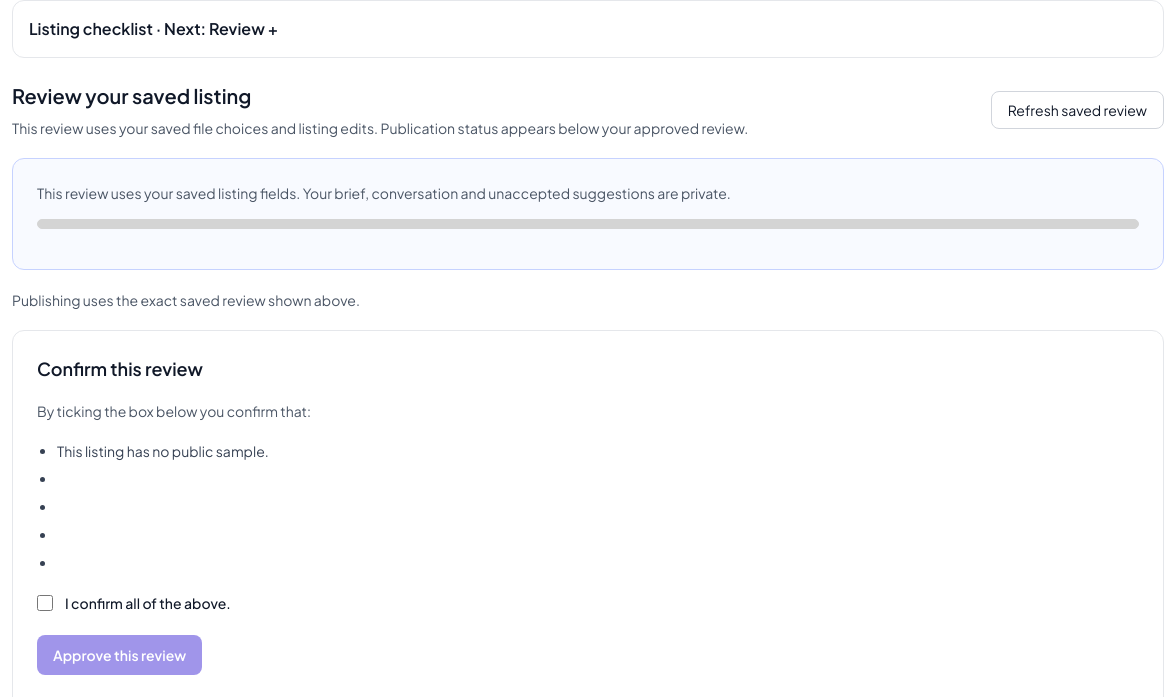
it: withdraws step 4 for a refreshed missing-fields refusal after an external draft change
This screenshot has width=1176, height=697.
expect the button "Approve this review" is shown: met, box [37,635,202,675]
Click the checkbox: (45, 603) [37,595,53,611]
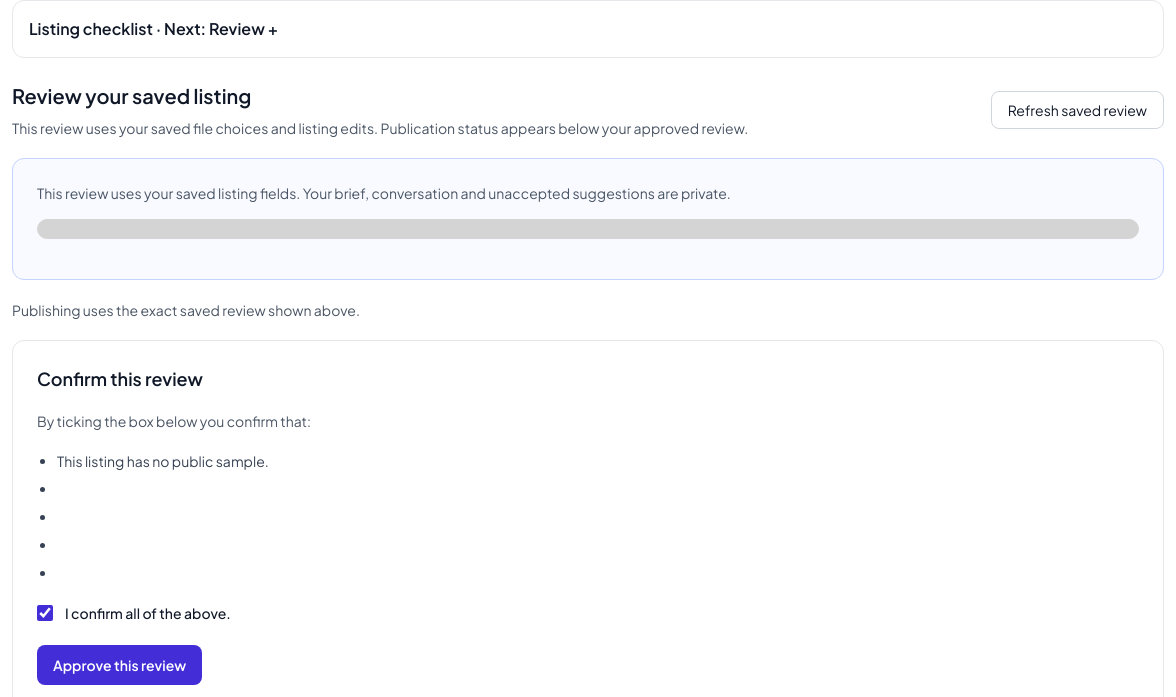
expect the button "Approve this review" is enabled: met, box [37,645,202,685]
Click the button "Refresh saved review": (1077, 110) [991,91,1164,129]
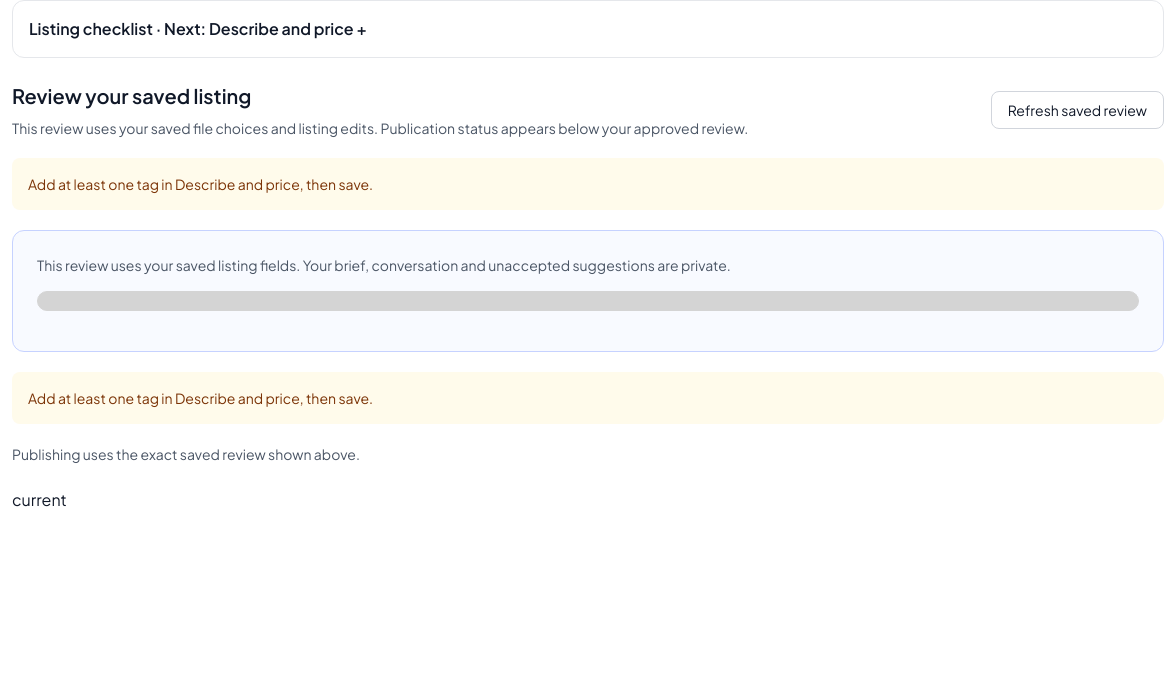
expect the button "Approve this review" is gone: met
